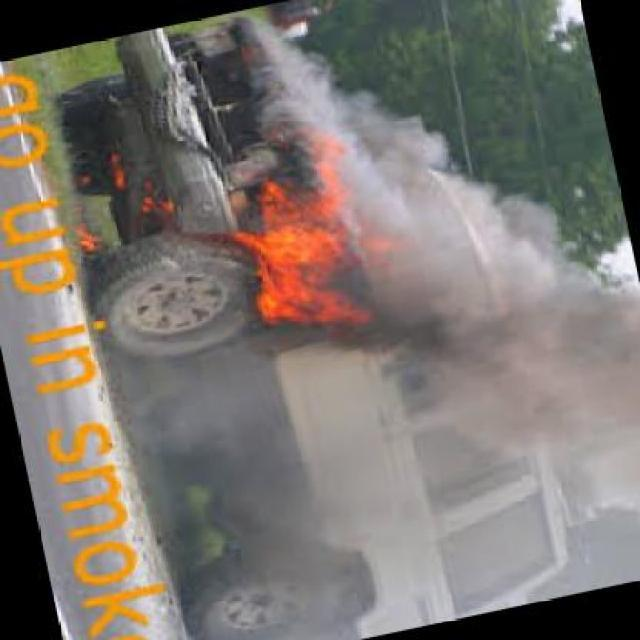Fire: (218, 134, 352, 326)
Smoke: (346, 37, 621, 590), (115, 334, 330, 604)
